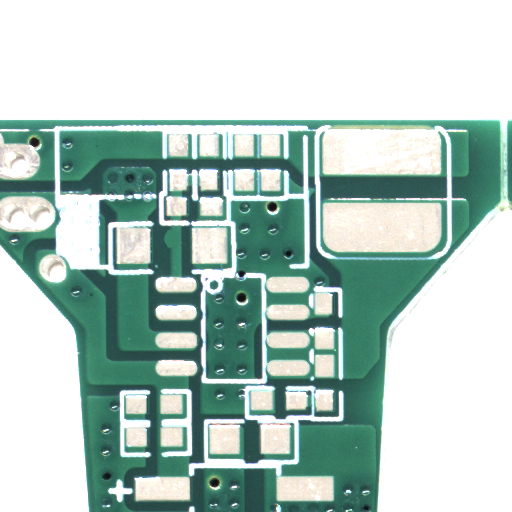Spur: (167, 238, 175, 255)
